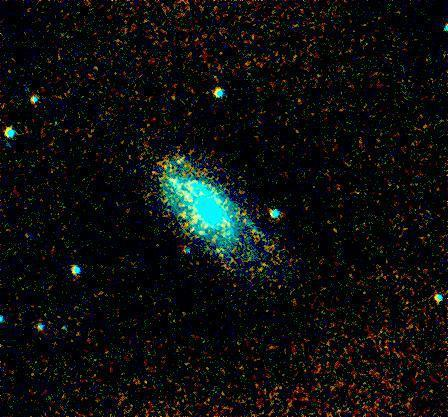star: (164, 146, 194, 176)
